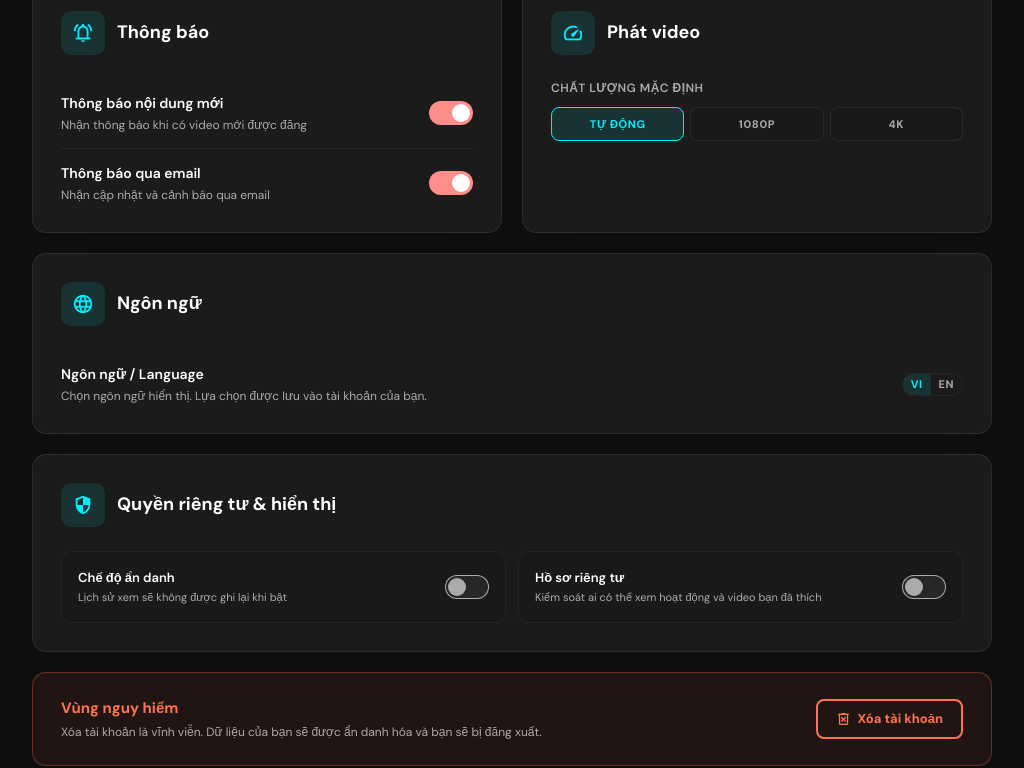
SettingsPage language › switches the UI language from the settings row
This screenshot has width=1024, height=768.
(page scrolled)
Expected: the text "Ngôn ngữ / Language" is shown, x1=61 y1=365 x2=204 y2=383
What coordinates should you click on to do the following:
click the button "EN"
I would click on:
 (946, 384)
Its box is x1=931 y1=374 x2=962 y2=395.
(page scrolled)
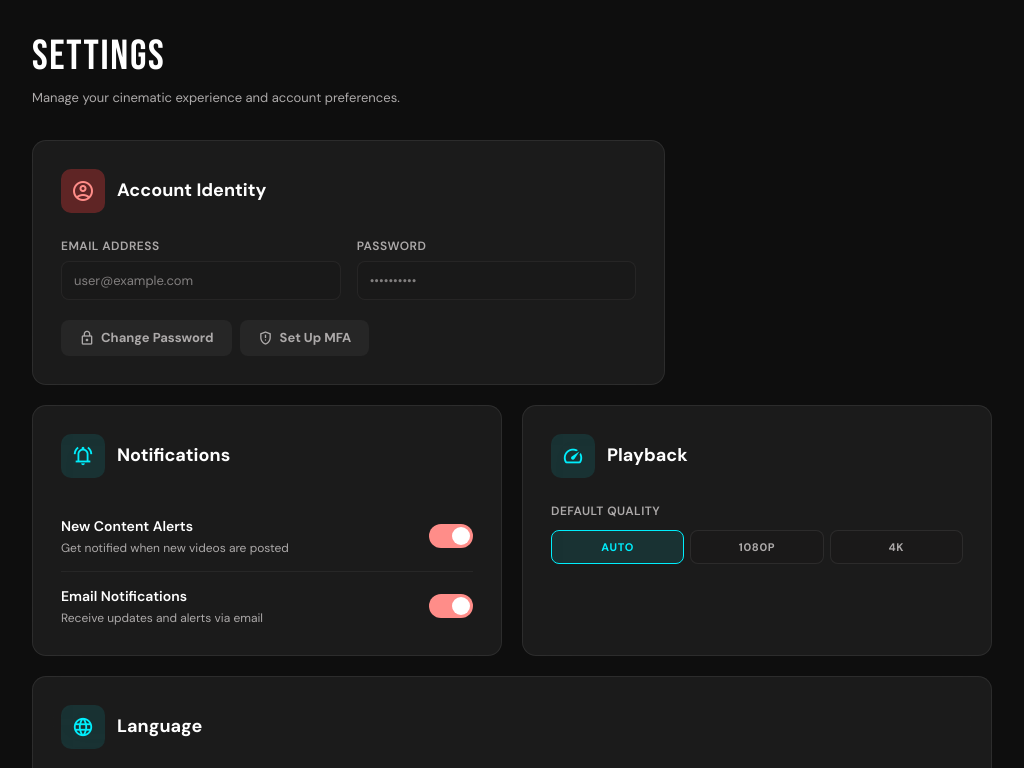
Expected: the heading "Account Identity" is shown, x1=117 y1=180 x2=266 y2=202
